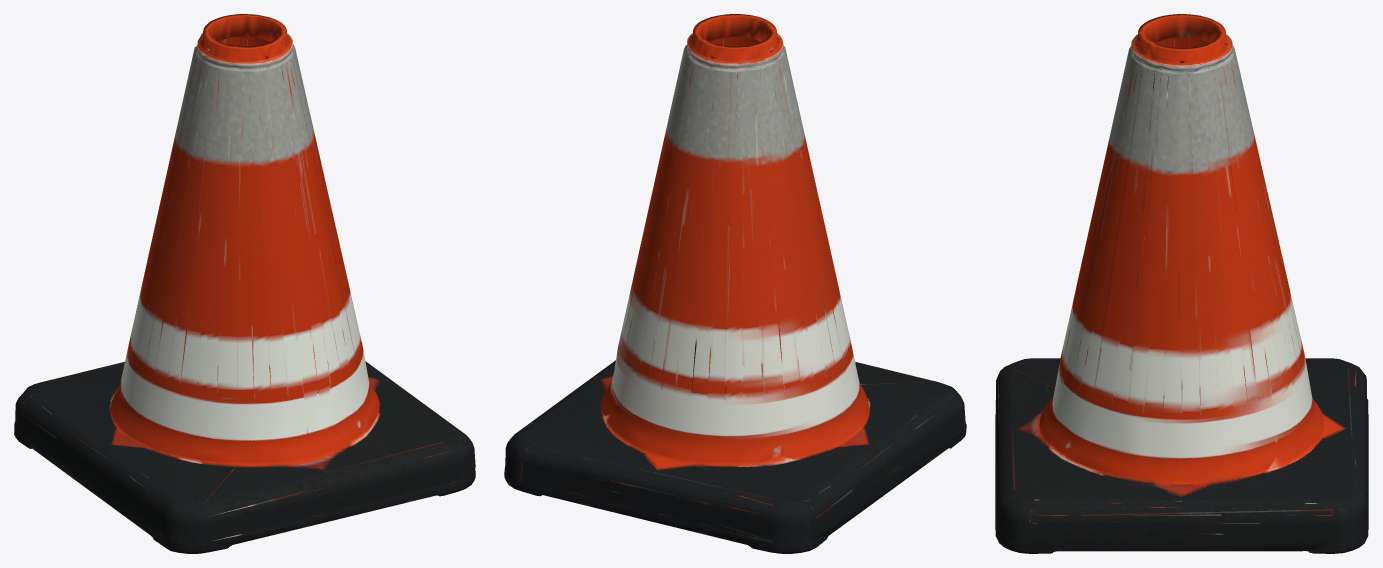
File: training_cone.glb
The picture shows the model from 3 angles, left to right: view 1: azimuth 30°, elevation 25°; view 2: azimuth 150°, elevation 25°; view 3: azimuth 270°, elevation 25°; orthographic projection. The views are drawn at different scales.
Visible parts, largest first — view 1: training_cone; view 2: training_cone; view 3: training_cone.
Boxes of the visible parts, x1=… form: training_cone: x1=14, y1=14, x2=475, y2=553; training_cone: x1=504, y1=14, x2=966, y2=553; training_cone: x1=995, y1=14, x2=1368, y2=553.
Bounding box in the file's own units: 0.3408 × 0.45 × 0.3432.
1 material, 1 textured.
